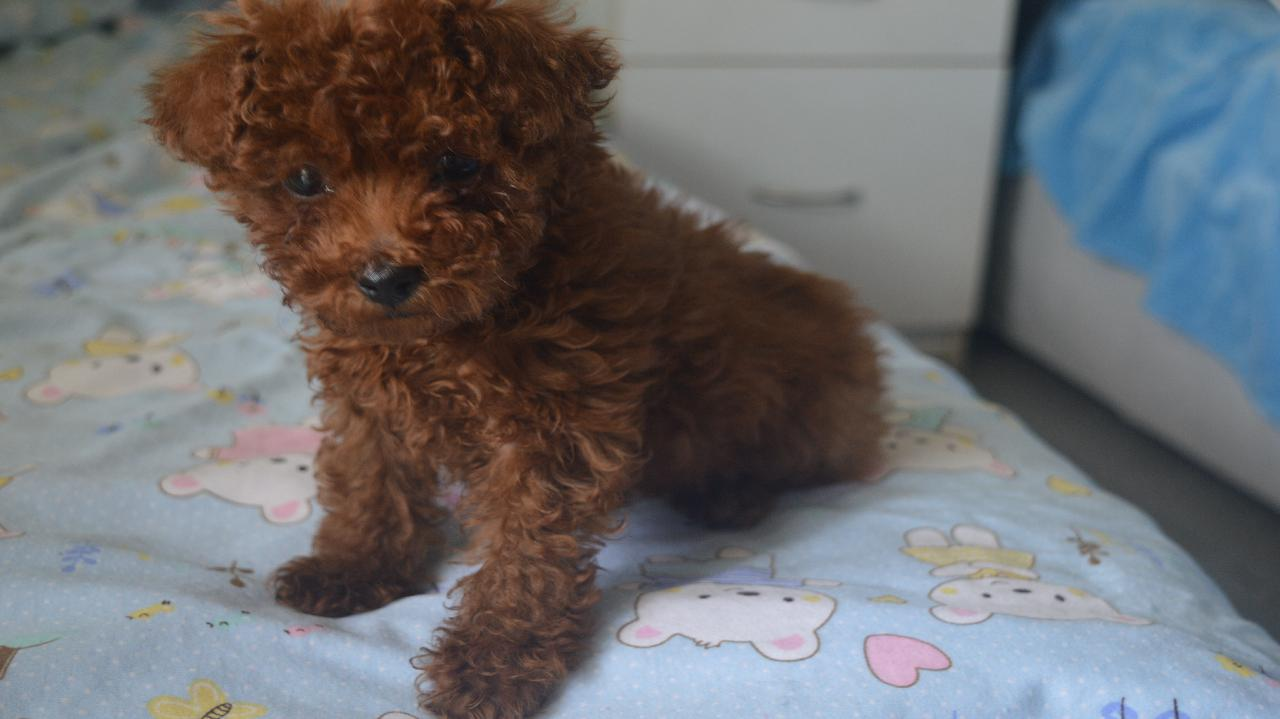coin: (153, 21, 888, 713)
